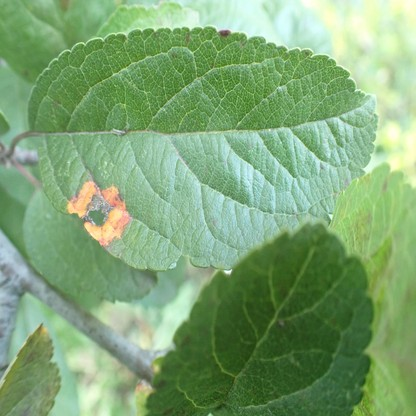rust: (69, 180, 129, 244)
